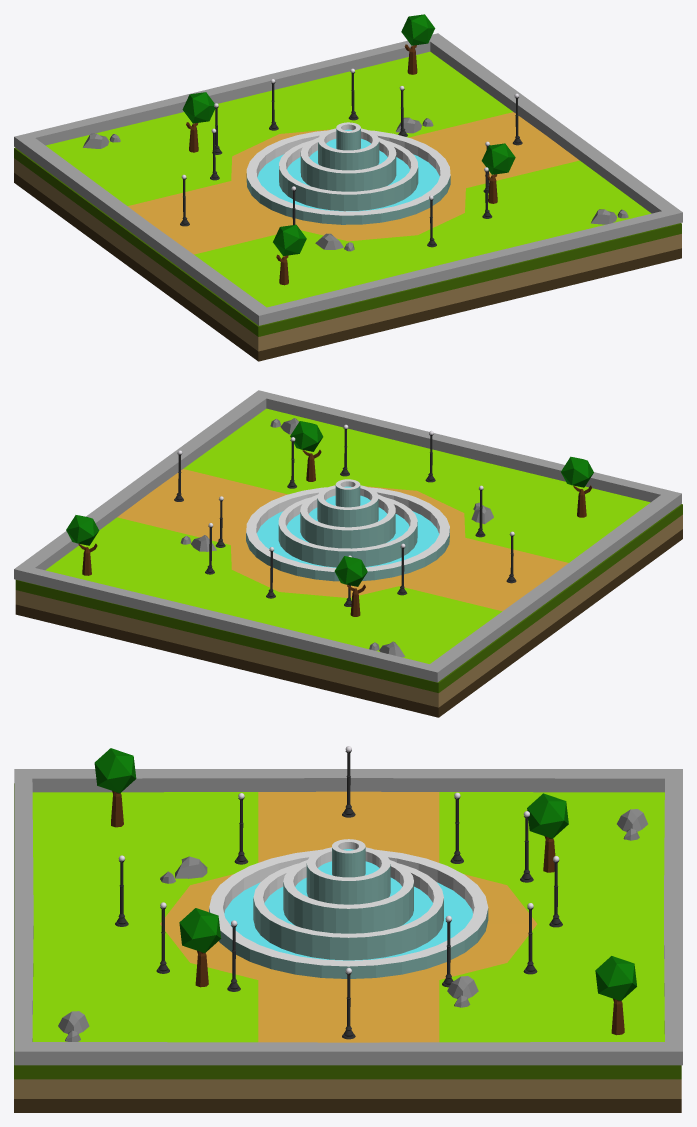
File: park.fbx
The picture shows the model from 3 angles, top to bottom: view 1: azimuth 30°, elevation 25°; view 2: azimuth 150°, elevation 25°; view 3: azimuth 270°, elevation 25°; orthographic projection. The views are drawn at different scales.
Visible parts, largest first — view 1: Plane.001, park ground, Circle, Icosphere.004, Icosphere.002, Icosphere.003, Icosphere.001; view 2: Plane.001, park ground, Circle, Icosphere.002, Icosphere.001, Icosphere.004, Icosphere.003; view 3: Plane.001, park ground, Circle, Icosphere.002, Icosphere.003, Icosphere.004, Icosphere.001, Plane.002.
Part boxes in pixels (left/top/right/bottom): Plane.001: left=14, top=33, right=682, bottom=325; park ground: left=14, top=147, right=681, bottom=361; Circle: left=246, top=122, right=450, bottom=224; Icosphere.004: left=401, top=14, right=435, bottom=45; Icosphere.002: left=273, top=224, right=306, bottom=255; Icosphere.003: left=481, top=143, right=515, bottom=174; Icosphere.001: left=182, top=92, right=215, bottom=123; Plane.001: left=14, top=390, right=681, bottom=682; park ground: left=15, top=504, right=682, bottom=717; Circle: left=246, top=479, right=449, bottom=581; Icosphere.002: left=561, top=456, right=593, bottom=487; Icosphere.001: left=334, top=556, right=367, bottom=586; Icosphere.004: left=66, top=515, right=99, bottom=545; Icosphere.003: left=290, top=421, right=323, bottom=451; Plane.001: left=14, top=769, right=682, bottom=1065; park ground: left=14, top=783, right=681, bottom=1112; Circle: left=209, top=839, right=488, bottom=978; Icosphere.002: left=94, top=748, right=136, bottom=793; Icosphere.003: left=179, top=908, right=221, bottom=953; Icosphere.004: left=595, top=956, right=636, bottom=1000; Icosphere.001: left=527, top=793, right=568, bottom=838; Plane.002: left=175, top=856, right=207, bottom=878.
Bounding box in the file's own units: 397 × 82.51 × 397.
